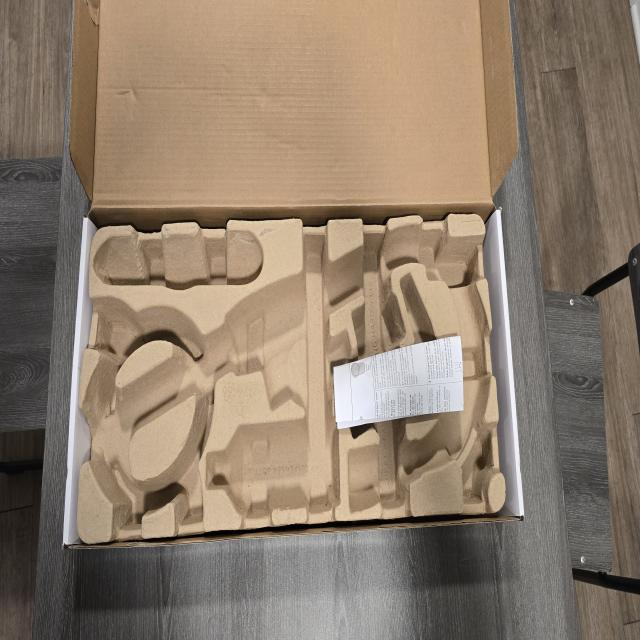1m: (82, 228, 488, 515)
2m: (343, 271, 441, 439)
3m: (208, 417, 339, 513)
4m: (92, 232, 264, 292)
5m: (97, 298, 139, 362)
6m: (97, 458, 152, 538)
7m: (166, 434, 203, 526)
8: (333, 334, 464, 429)
